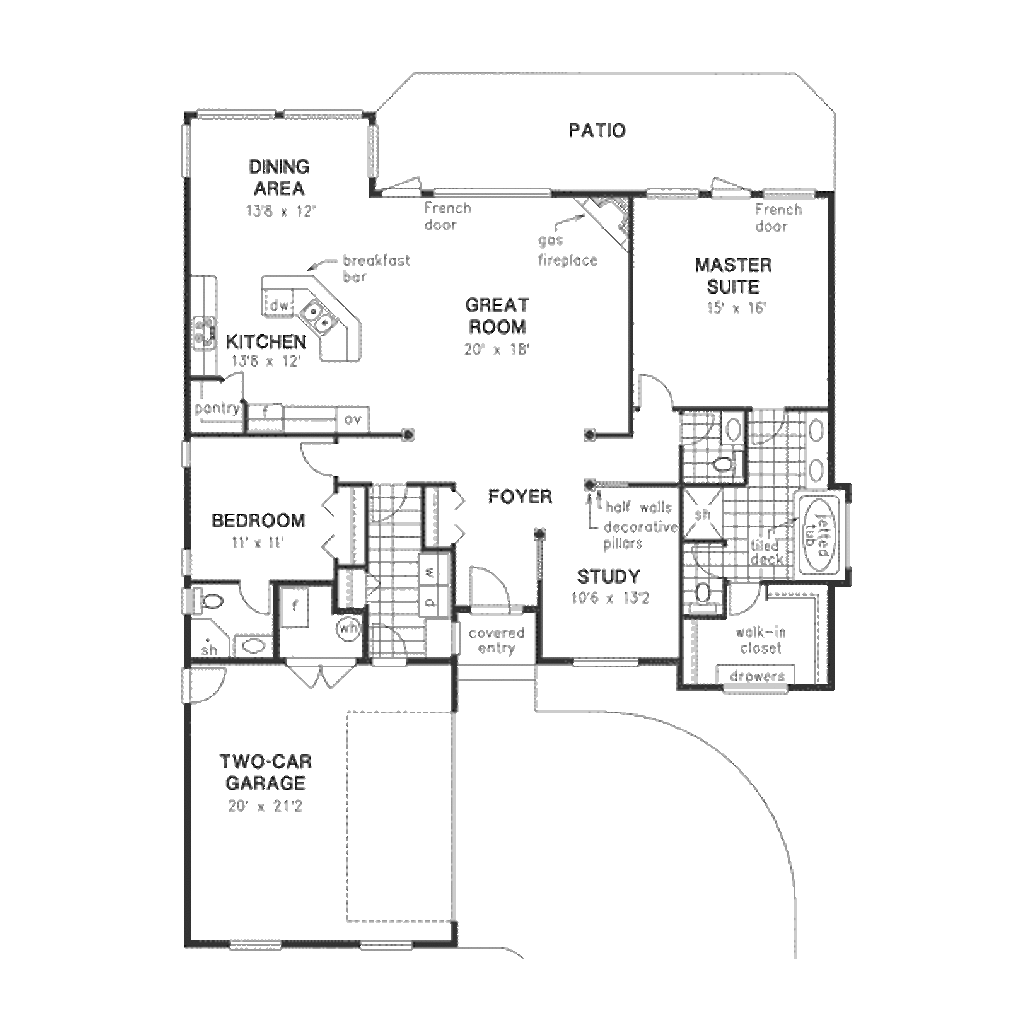door: (459, 560, 517, 621), (173, 654, 242, 704), (281, 653, 363, 692), (294, 431, 350, 487), (741, 407, 792, 452), (376, 165, 429, 205), (637, 370, 682, 414), (722, 576, 769, 617), (229, 579, 273, 619), (712, 160, 751, 201)
kitchen_bar: (226, 265, 382, 377)
large_sink: (683, 570, 718, 617), (182, 582, 230, 615), (713, 445, 743, 476)
small_sink: (801, 412, 834, 499), (715, 413, 749, 450)
twin_sink: (290, 286, 346, 339)
window: (198, 99, 283, 124), (714, 671, 790, 698), (172, 117, 201, 179), (633, 177, 707, 201), (169, 437, 215, 475), (279, 103, 370, 122), (574, 651, 651, 670), (758, 181, 818, 204), (363, 935, 433, 954), (362, 115, 381, 174), (222, 940, 278, 959)
